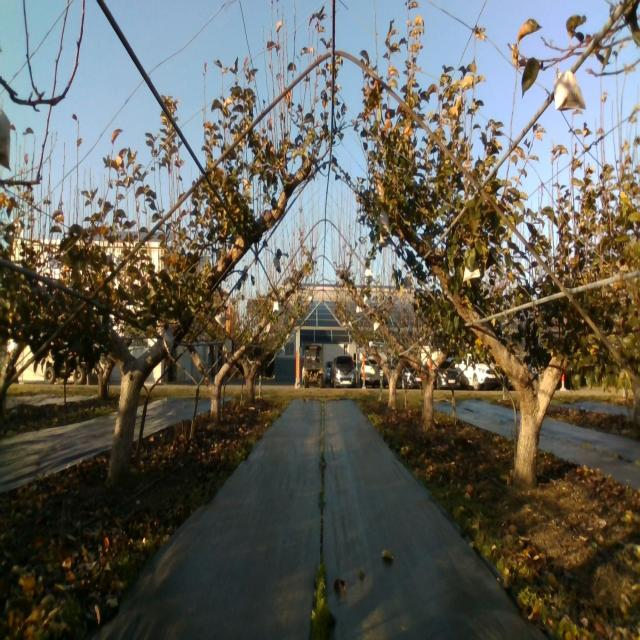pearbags: (552, 65, 586, 109), (163, 327, 175, 355), (378, 209, 391, 233)
